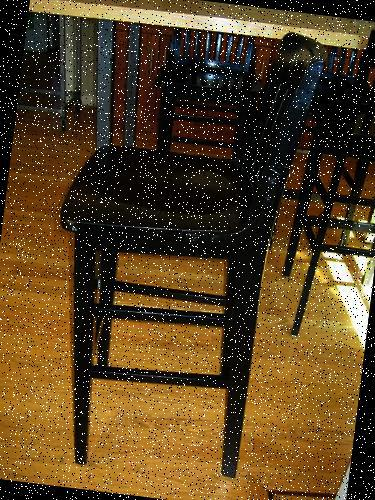Silla: (33, 9, 323, 488)
